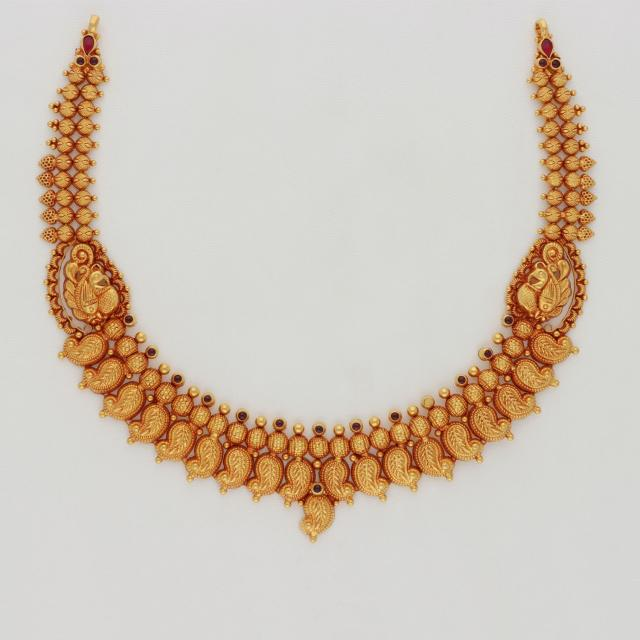missing gem: (424, 398, 433, 406)
